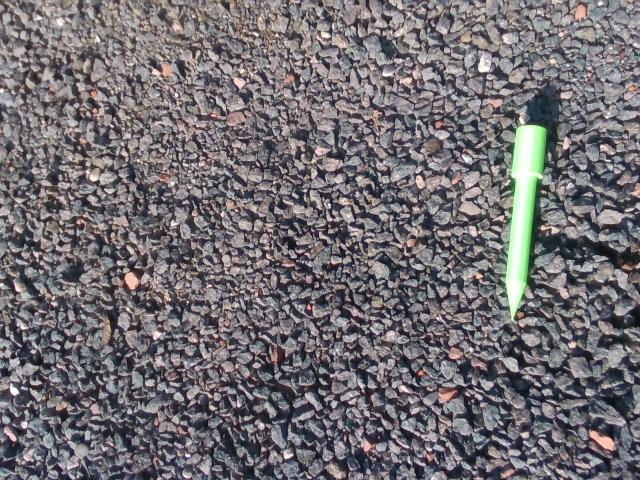Probe: (500, 122, 552, 325)
